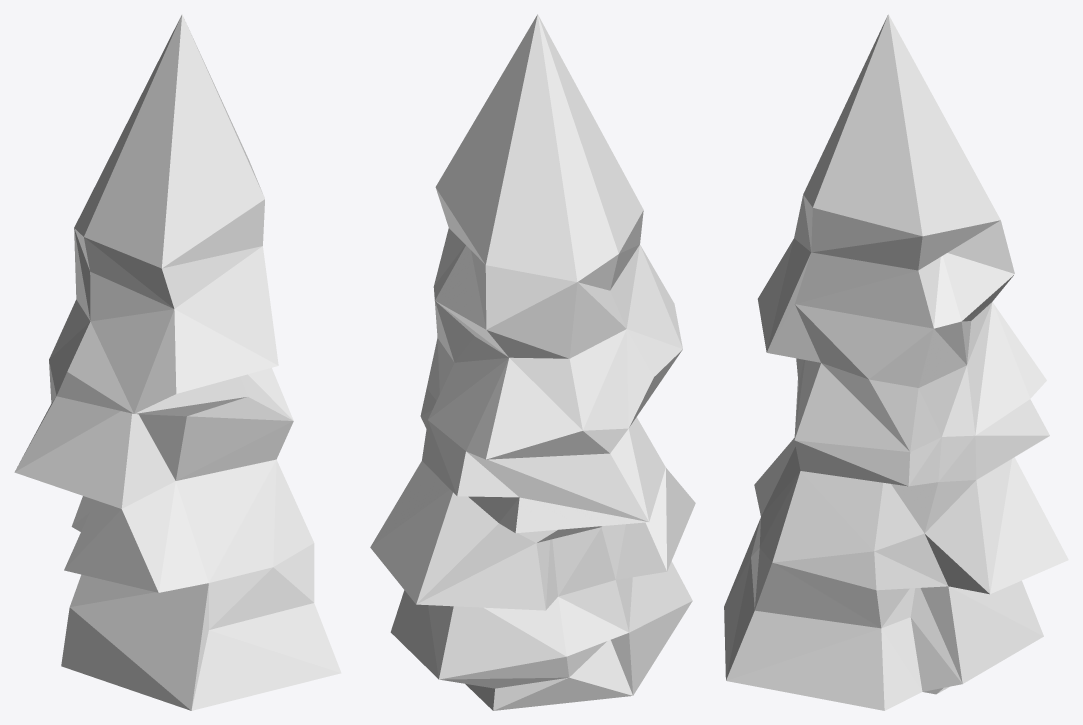
The model's file is ground.rock.spike.glb.
3 renders of one model, left to right at view 1: azimuth 30°, elevation 25°; view 2: azimuth 150°, elevation 25°; view 3: azimuth 270°, elevation 25°, orthographic.
Visible parts, largest first — view 1: rock.spike; view 2: rock.spike; view 3: rock.spike.
Boxes of the visible parts, <box> form: rock.spike: <box>14,14,341,710</box>; rock.spike: <box>370,14,695,710</box>; rock.spike: <box>724,14,1068,710</box>.
Size of the model in its own units: 2.65 by 6.15 by 2.97.
Materials: 1 (1 with a texture image).
